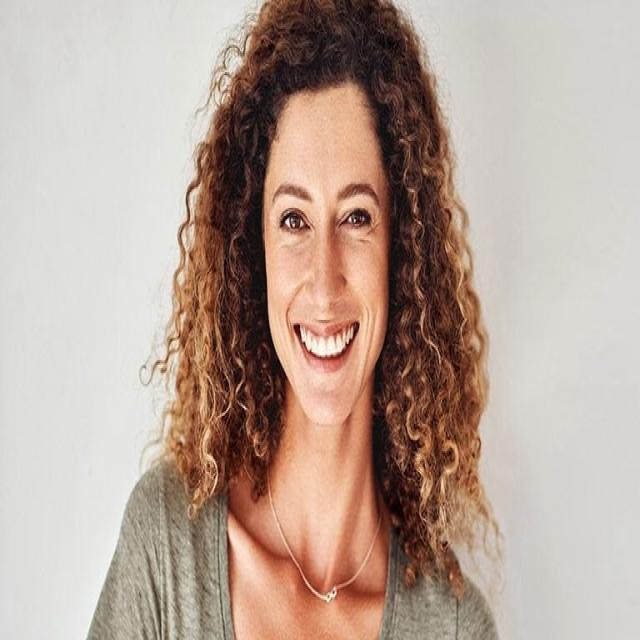adult: (86, 0, 495, 640)
